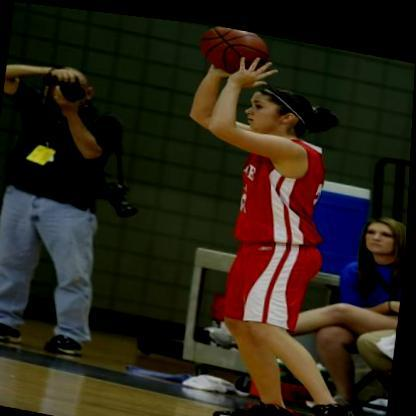basketball: (191, 18, 274, 75)
